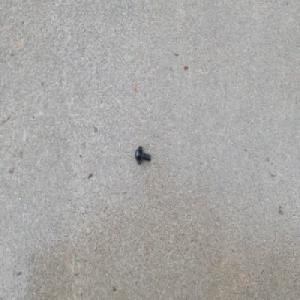BoltWasher: (134, 145, 151, 166)
